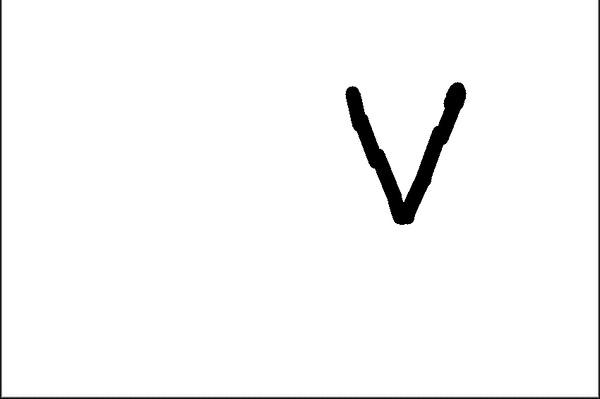V: (336, 67, 480, 237)
